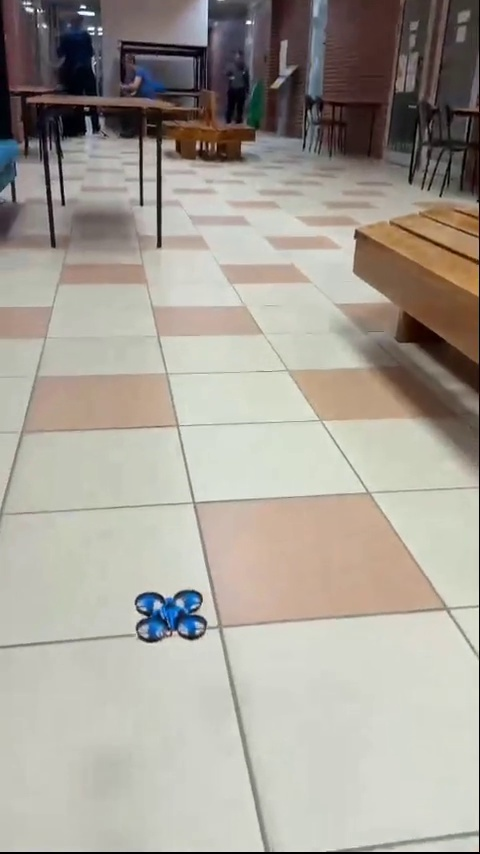drone: (134, 589, 206, 640)
no vest: (56, 4, 111, 139), (221, 40, 254, 127), (122, 42, 162, 108)
